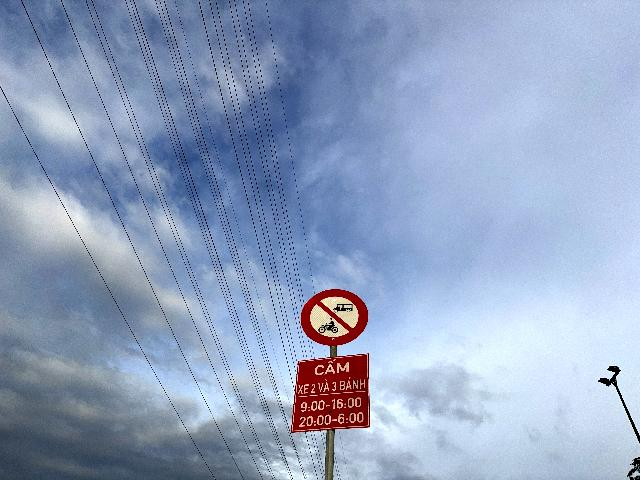cam-xe-2-banh-3-banh: (301, 289, 369, 346)
